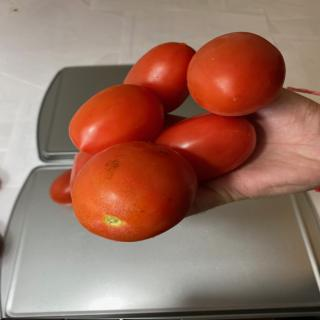Chilli: (50, 31, 286, 242)
Tomato: (71, 141, 198, 242), (186, 31, 286, 117), (153, 112, 257, 181), (68, 84, 165, 154), (123, 42, 196, 114), (70, 151, 94, 194), (50, 169, 72, 205)
